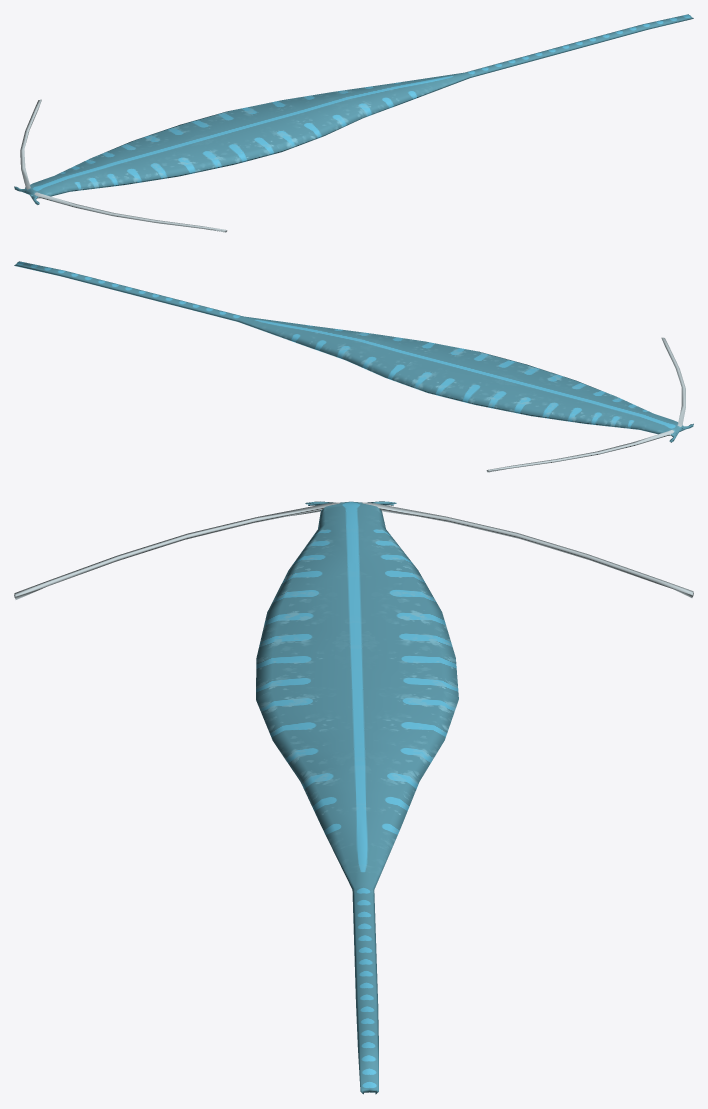
The model's file is gossamerWorm_solid.fbx.
3 renders of one model, top to bottom at view 1: azimuth 30°, elevation 25°; view 2: azimuth 150°, elevation 25°; view 3: azimuth 270°, elevation 25°, orthographic. The views are drawn at different scales.
Parts seen in each view (by area): view 1: gossamerWorm.004; view 2: gossamerWorm.004; view 3: gossamerWorm.004.
Boxes of the visible parts, x1,y1,x2,y2 form: gossamerWorm.004: (14, 14, 693, 232); gossamerWorm.004: (14, 261, 693, 472); gossamerWorm.004: (14, 501, 693, 1094).
Size of the model in its own units: 1.43 by 0.0374 by 0.6712.
